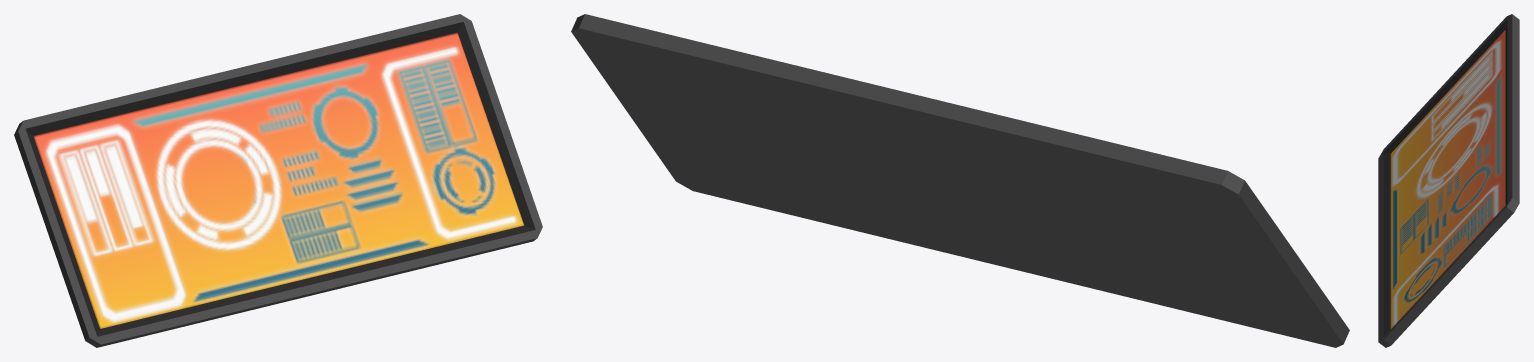
File: Terminal_008_monitor_003.fbx
3 renders of one model, left to right at view 1: azimuth 30°, elevation 25°; view 2: azimuth 150°, elevation 25°; view 3: azimuth 270°, elevation 25°, orthographic. The views are drawn at different scales.
Parts seen in each view (by area): view 1: Terminal_008_monitor_003; view 2: Terminal_008_monitor_003; view 3: Terminal_008_monitor_003.
Boxes of the visible parts, left/top/right/bottom form: Terminal_008_monitor_003: left=14, top=14, right=542, bottom=347; Terminal_008_monitor_003: left=571, top=14, right=1349, bottom=347; Terminal_008_monitor_003: left=1378, top=14, right=1519, bottom=347.
Size of the model in its own units: 145 by 45.18 by 53.
